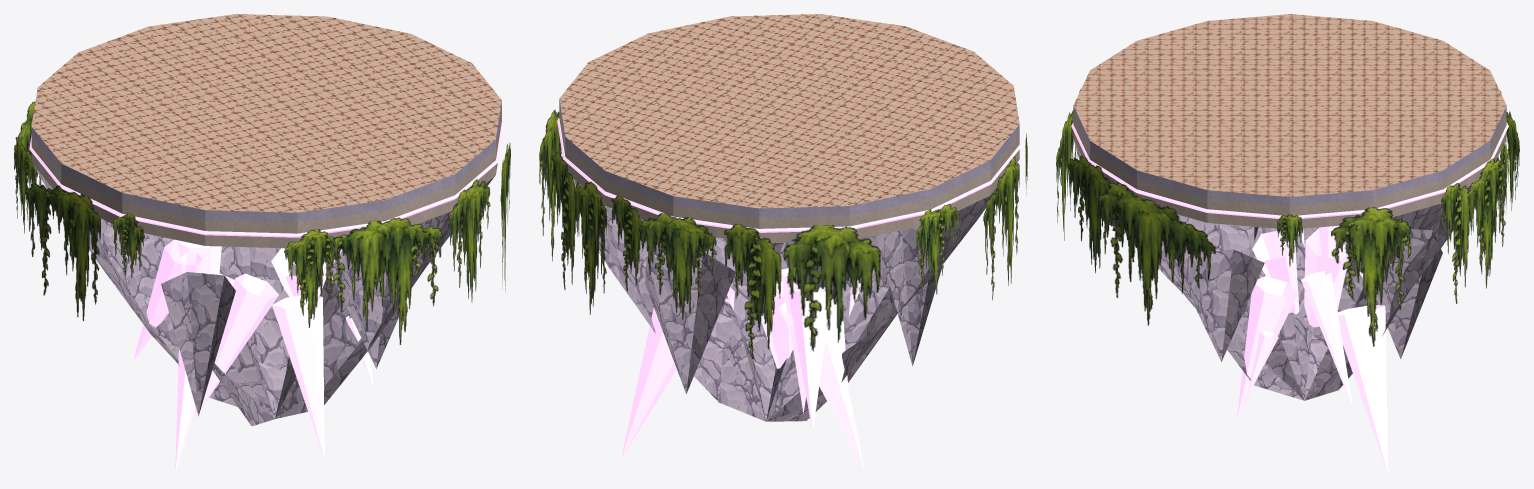
File: SKY_ISLAND_09.glb
3 views of the same model, side by side, from view 1: azimuth 30°, elevation 25°; view 2: azimuth 150°, elevation 25°; view 3: azimuth 270°, elevation 25° (orthographic). The views are drawn at different scales.
Parts seen in each view (by area): view 1: S_RingIsle_Skin.001, S_RingIsle_Moss.001, S_RingIsle_Crystals.001; view 2: S_RingIsle_Skin.001, S_RingIsle_Moss.001, S_RingIsle_Crystals.001; view 3: S_RingIsle_Skin.001, S_RingIsle_Moss.001, S_RingIsle_Crystals.001.
Part boxes in pixels (bbox=[...]): S_RingIsle_Skin.001: bbox=[29, 14, 504, 426]; S_RingIsle_Moss.001: bbox=[14, 101, 510, 344]; S_RingIsle_Crystals.001: bbox=[133, 239, 373, 474]; S_RingIsle_Skin.001: bbox=[557, 14, 1021, 421]; S_RingIsle_Moss.001: bbox=[539, 110, 1027, 358]; S_RingIsle_Crystals.001: bbox=[621, 267, 865, 474]; S_RingIsle_Skin.001: bbox=[1071, 14, 1508, 400]; S_RingIsle_Moss.001: bbox=[1056, 89, 1519, 346]; S_RingIsle_Crystals.001: bbox=[1236, 225, 1388, 474].
Size of the model in its own units: 19.04 by 14.51 by 19.27.
Materials: 6 (4 with a texture image).
